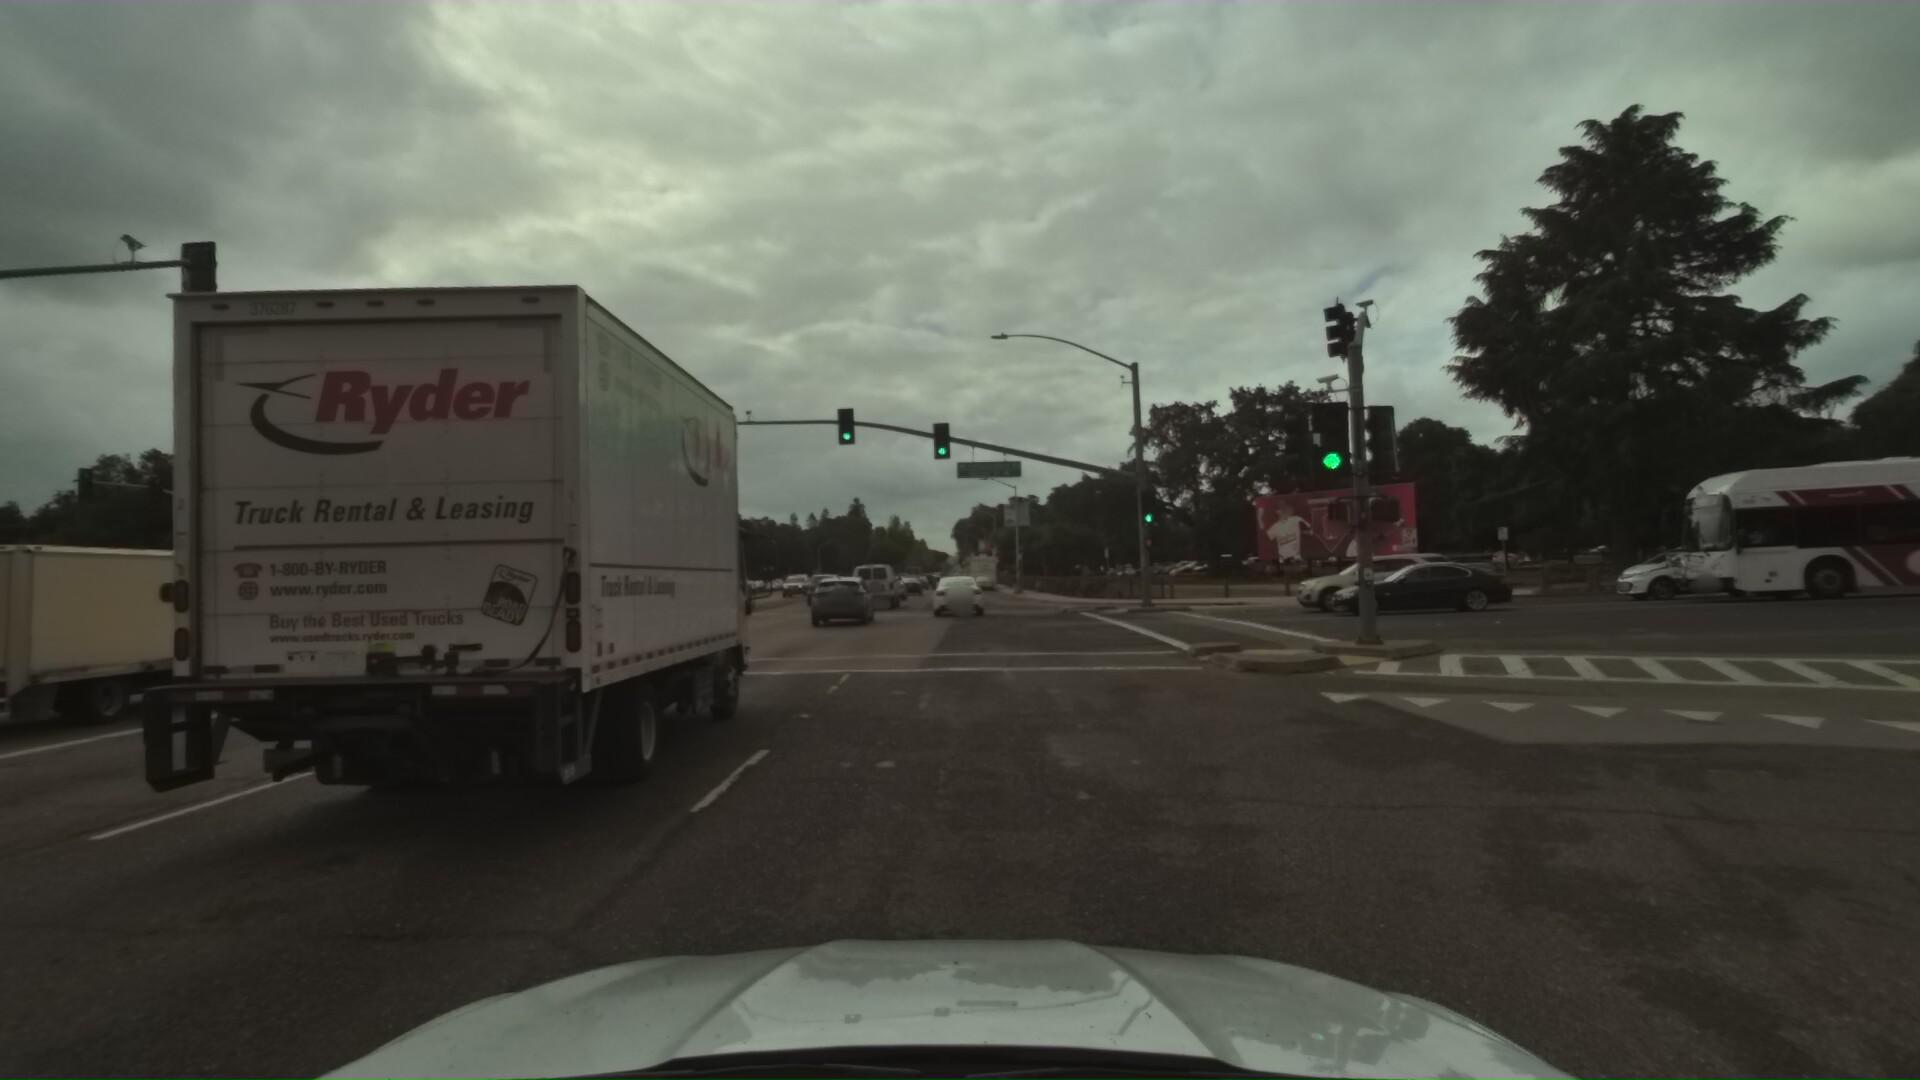bus: (1648, 419, 1920, 604)
car: (1607, 530, 1804, 597), (1325, 553, 1520, 615), (1288, 545, 1461, 612), (800, 572, 874, 629), (847, 559, 899, 609), (928, 572, 982, 618), (675, 576, 737, 615), (928, 567, 972, 607), (799, 572, 843, 607), (878, 576, 913, 604), (777, 574, 810, 597), (898, 576, 923, 596)
truck: (94, 233, 781, 891), (0, 527, 318, 764)
